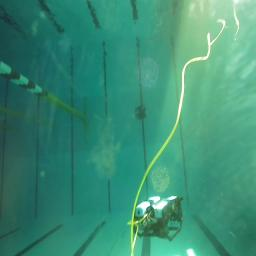Full: (134, 112, 147, 119)
back: (132, 194, 185, 242)
